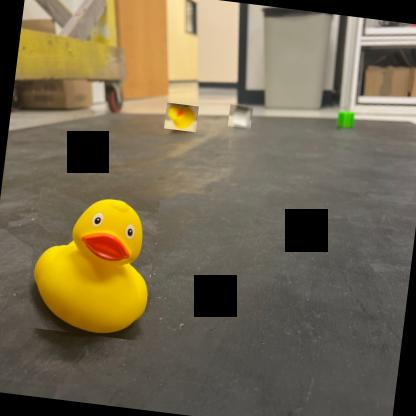duck: (24, 186, 160, 341), (164, 102, 199, 132)
green cylinder: (334, 107, 356, 130)
white cylinder: (227, 104, 253, 128)
